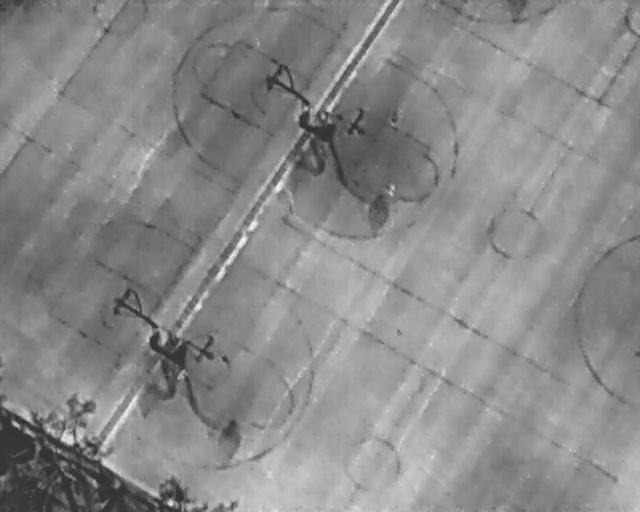Person: (390, 106, 402, 132), (385, 179, 396, 199), (177, 367, 187, 381)
